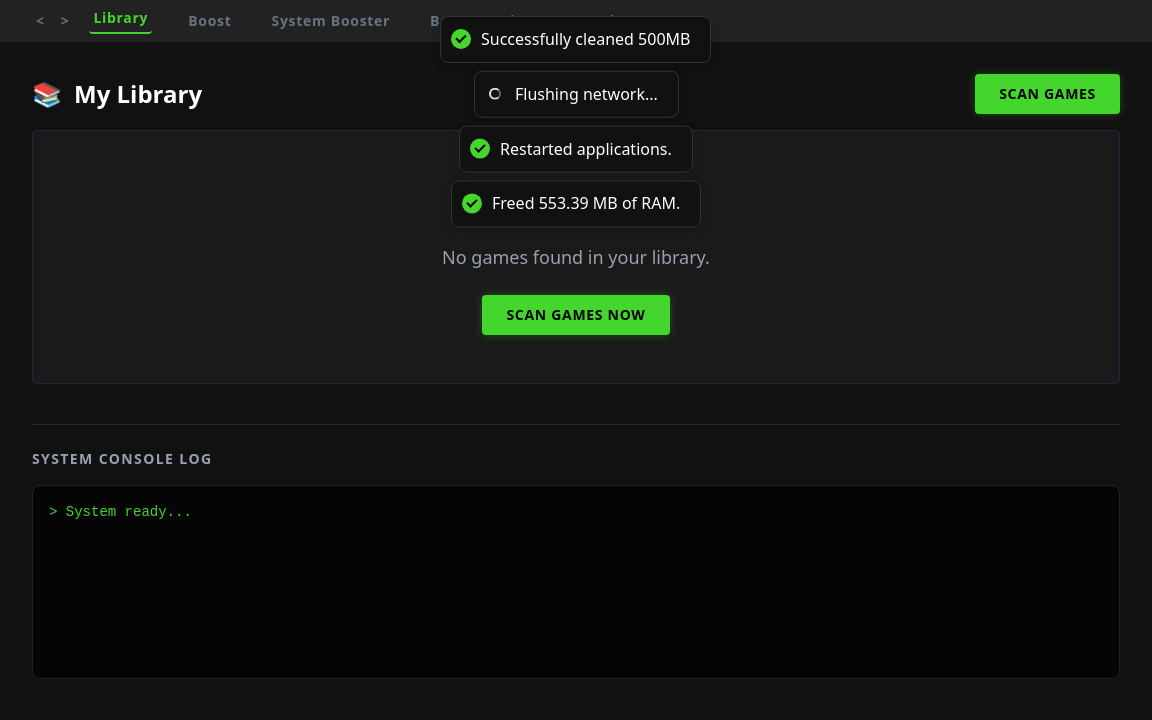
App › handleCleanSystem › handles failed cleaning (window.eel)
What coordinates should you click on to do the following:
click the tab "System Booster"
I would click on:
 (331, 21)
Its box is 268,11 -> 394,31.
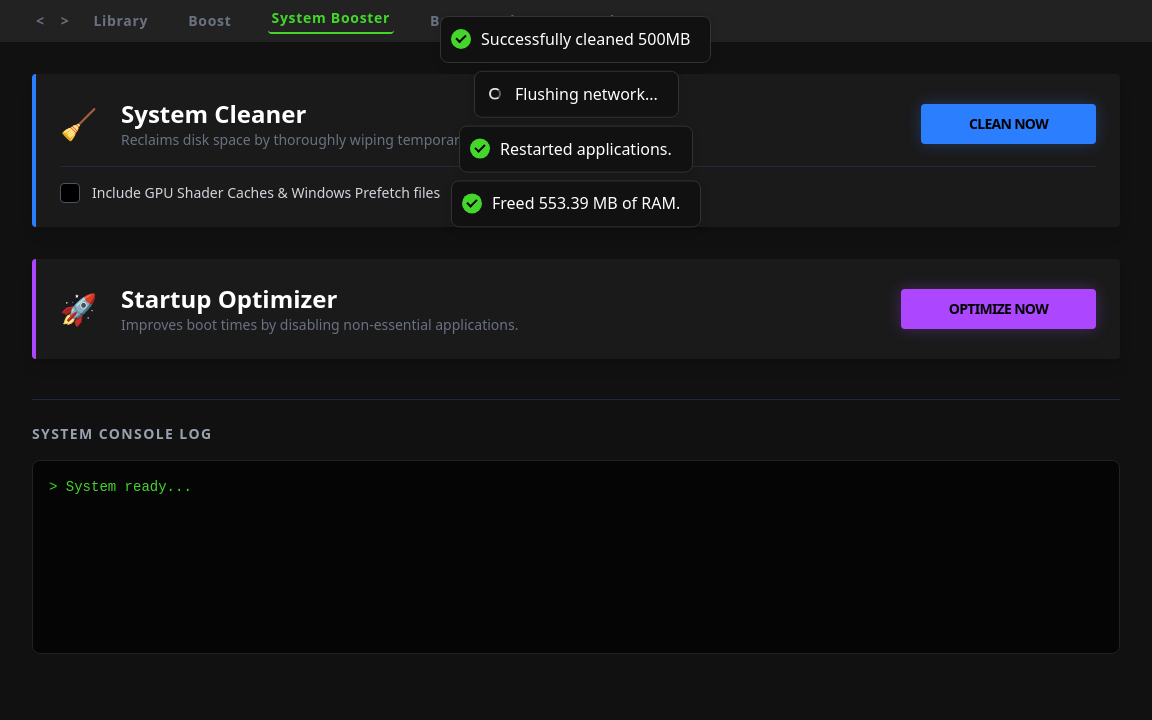
What coordinates should you click on to do the following:
click the button "Clean Now"
I would click on:
 (1008, 124)
Its box is 921,104 -> 1096,144.
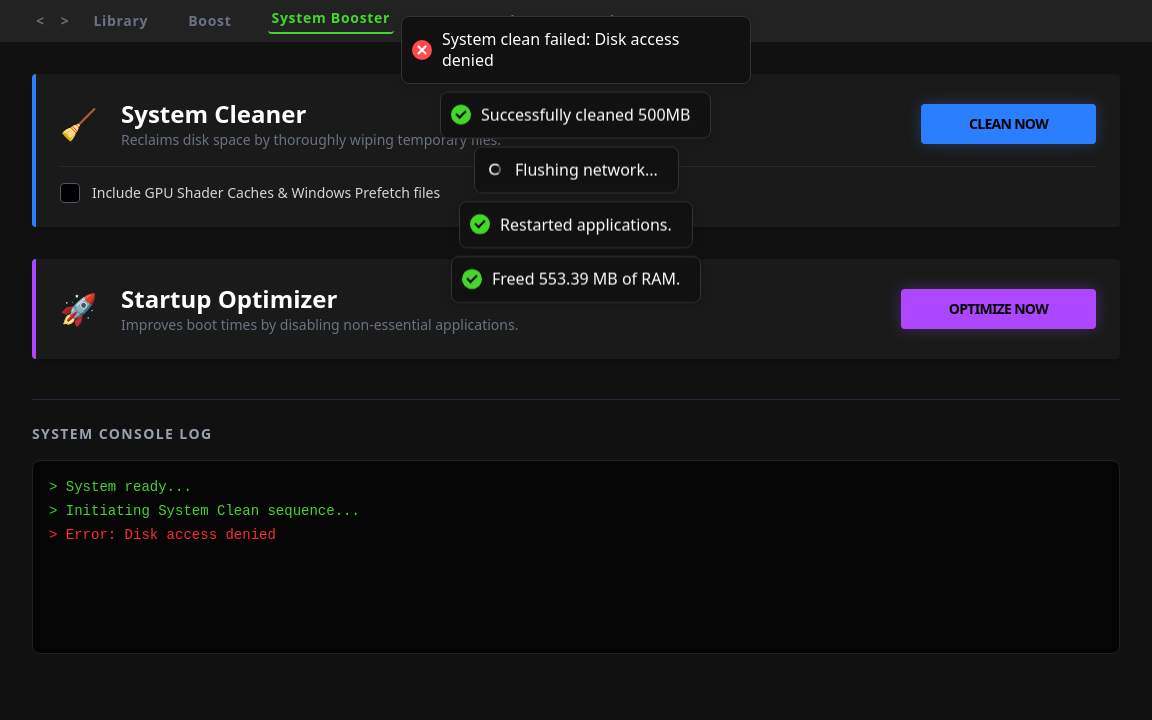
Expected: the text "> Error: Disk access denied" is shown, 49,527 -> 276,543
